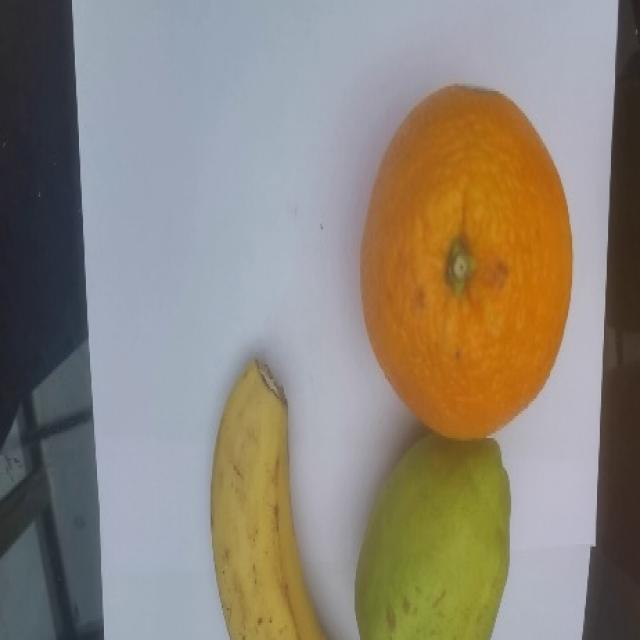Banana: (211, 356, 343, 640)
Orange: (362, 79, 574, 442)
